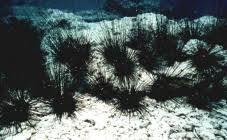urchin: (175, 76, 220, 110), (148, 29, 183, 67), (43, 87, 83, 119), (0, 93, 34, 129), (183, 46, 224, 75), (144, 71, 175, 104), (114, 88, 149, 114), (96, 37, 129, 64), (134, 46, 165, 74), (87, 76, 119, 103), (178, 24, 205, 50), (66, 57, 90, 86), (51, 43, 84, 64), (112, 57, 136, 82), (206, 24, 227, 49), (123, 31, 148, 49), (77, 39, 95, 61)
